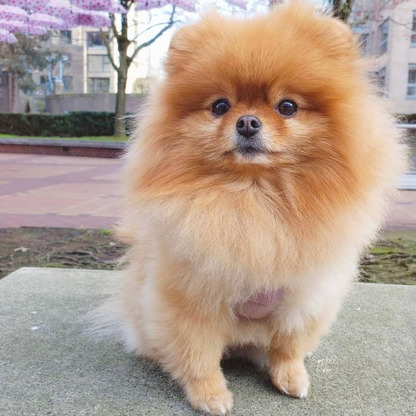Pomeranian: (132, 10, 394, 405)
